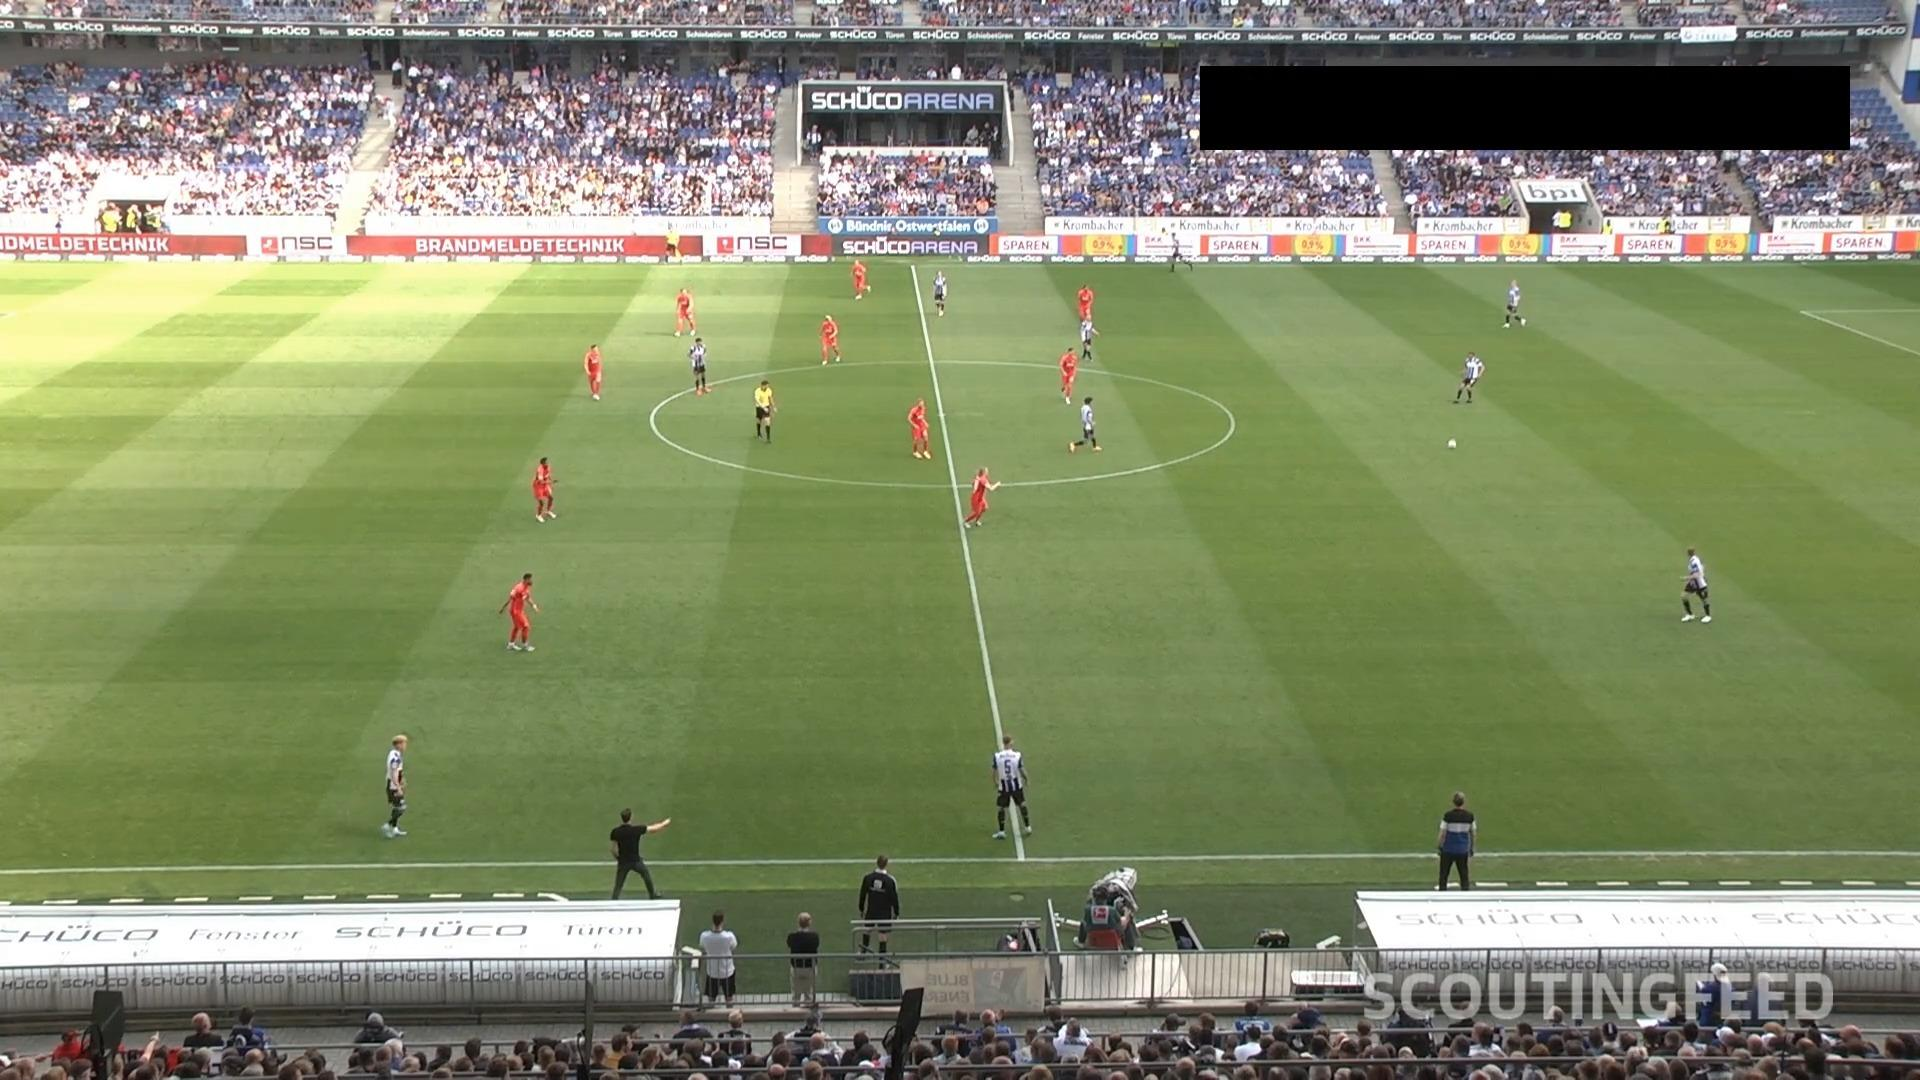ball: (1445, 438, 1457, 450)
